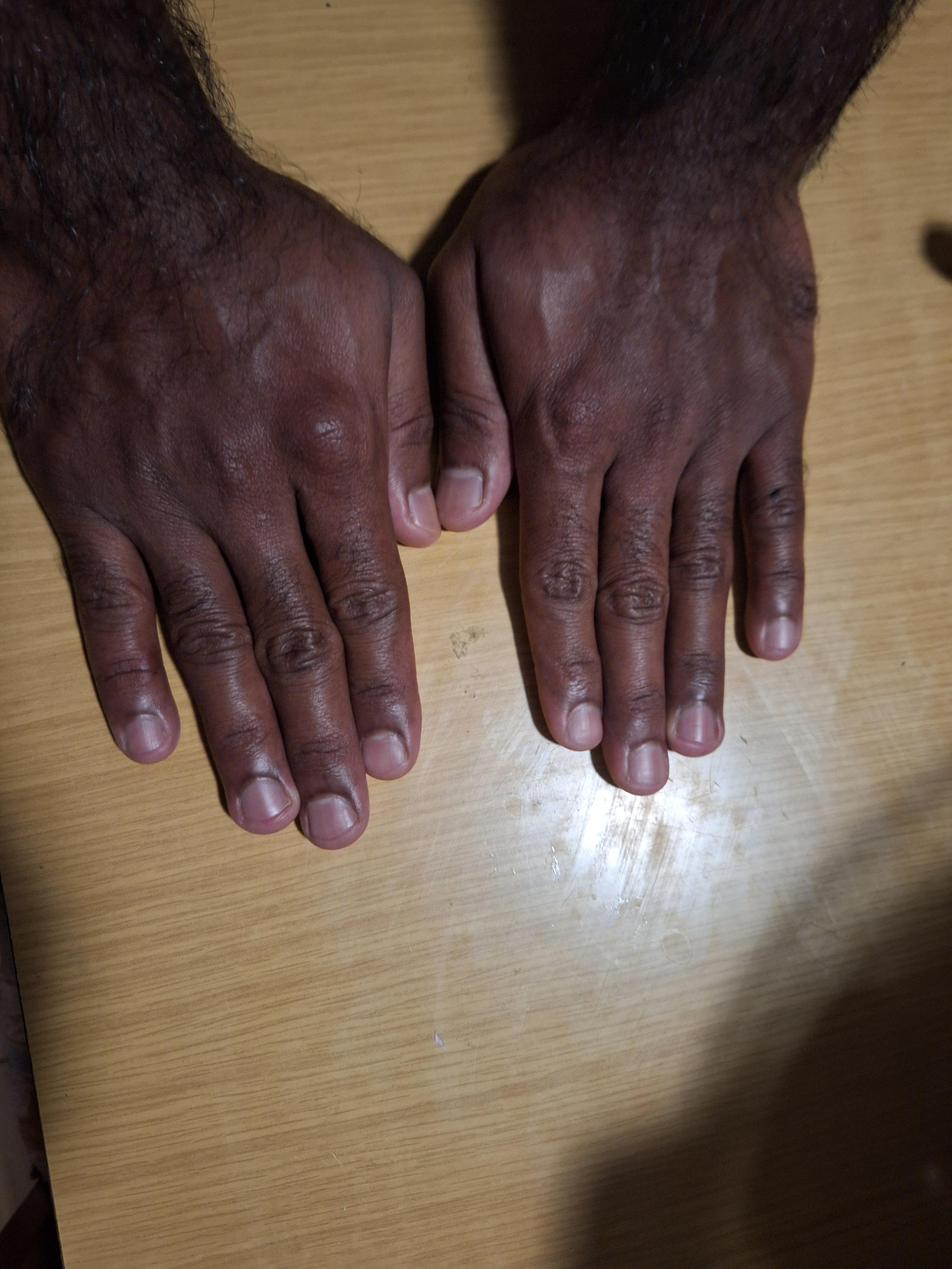Fingernail: (435, 469, 484, 517), (308, 797, 357, 839), (241, 781, 290, 821), (362, 732, 406, 774), (125, 715, 166, 753), (629, 743, 666, 785), (408, 484, 440, 532), (677, 705, 716, 743), (568, 704, 602, 746), (765, 619, 795, 650)
